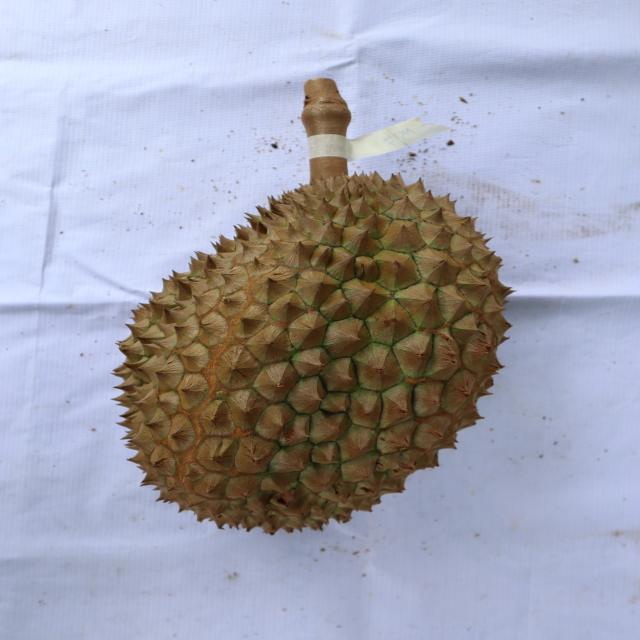mature: (104, 171, 518, 541)
